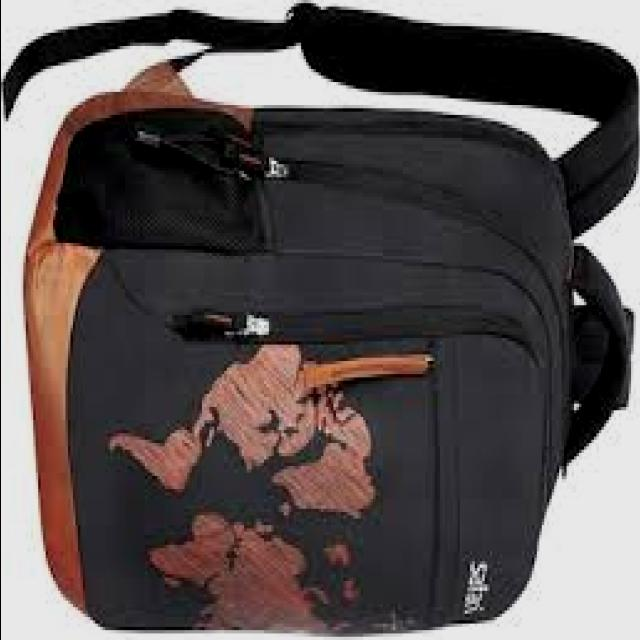backpack: (6, 1, 640, 634)
